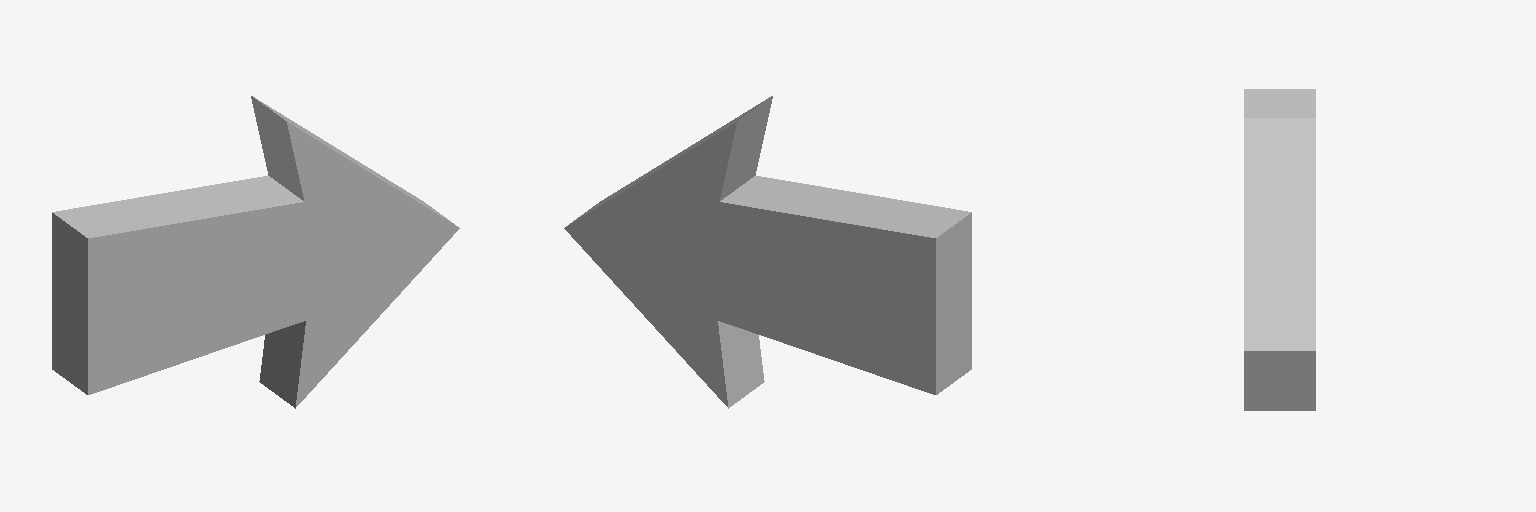
File: slide_arrow.obj
3 views of the same model, side by side, from view 1: azimuth 30°, elevation 25°; view 2: azimuth 150°, elevation 25°; view 3: azimuth 270°, elevation 25° (orthographic).
Visible parts, largest first — view 1: planarTrimmedSurface1; view 2: planarTrimmedSurface1; view 3: planarTrimmedSurface1.
Part boxes in pixels (x1,y1,x2,y2): planarTrimmedSurface1: (52, 96, 459, 408); planarTrimmedSurface1: (564, 96, 971, 408); planarTrimmedSurface1: (1244, 89, 1315, 410).
Size of the model in its own units: 22.05 by 16.37 by 3.7.